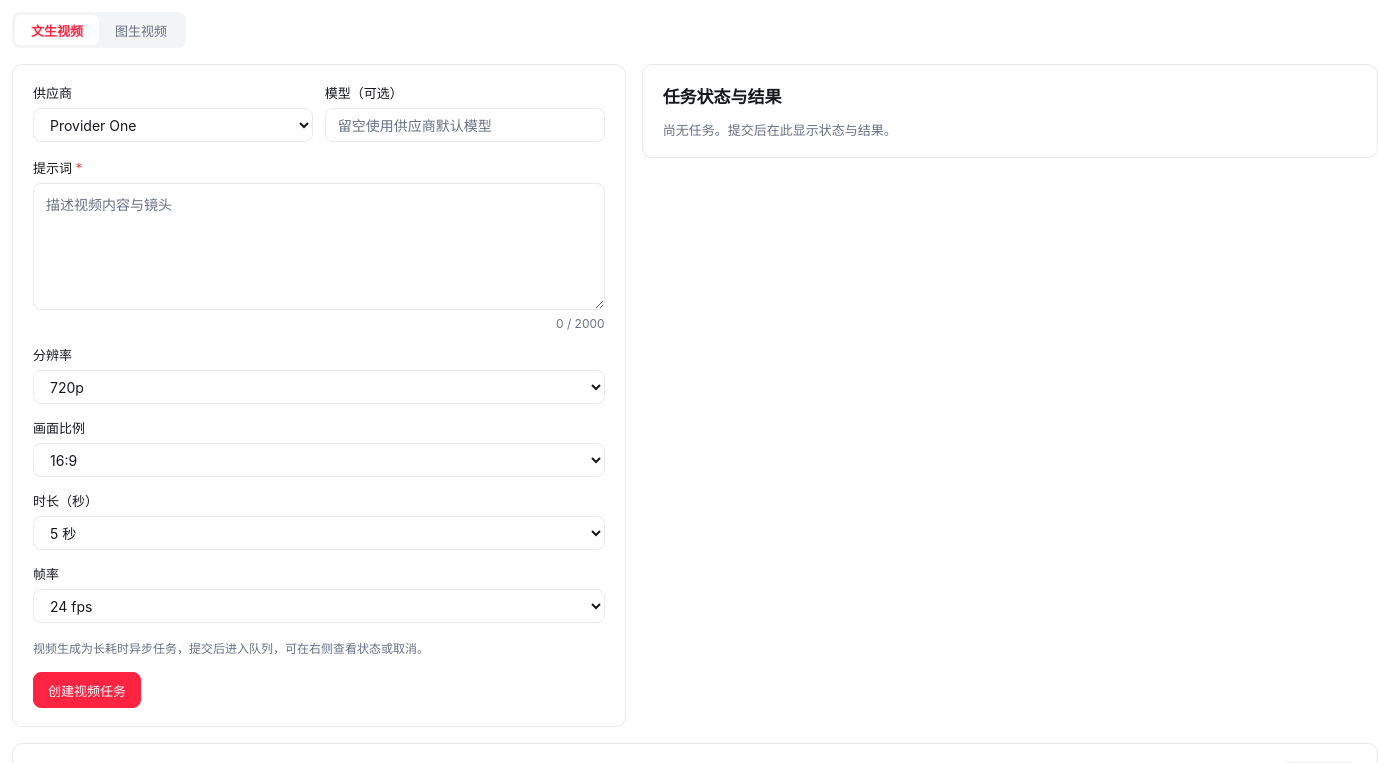
Test: 视频页 › 排队中的任务可取消，取消后状态更新
Step 1. Type "a drone shot" into the text box labelled "提示词 *" → (319, 246), box 33,183 -> 605,310
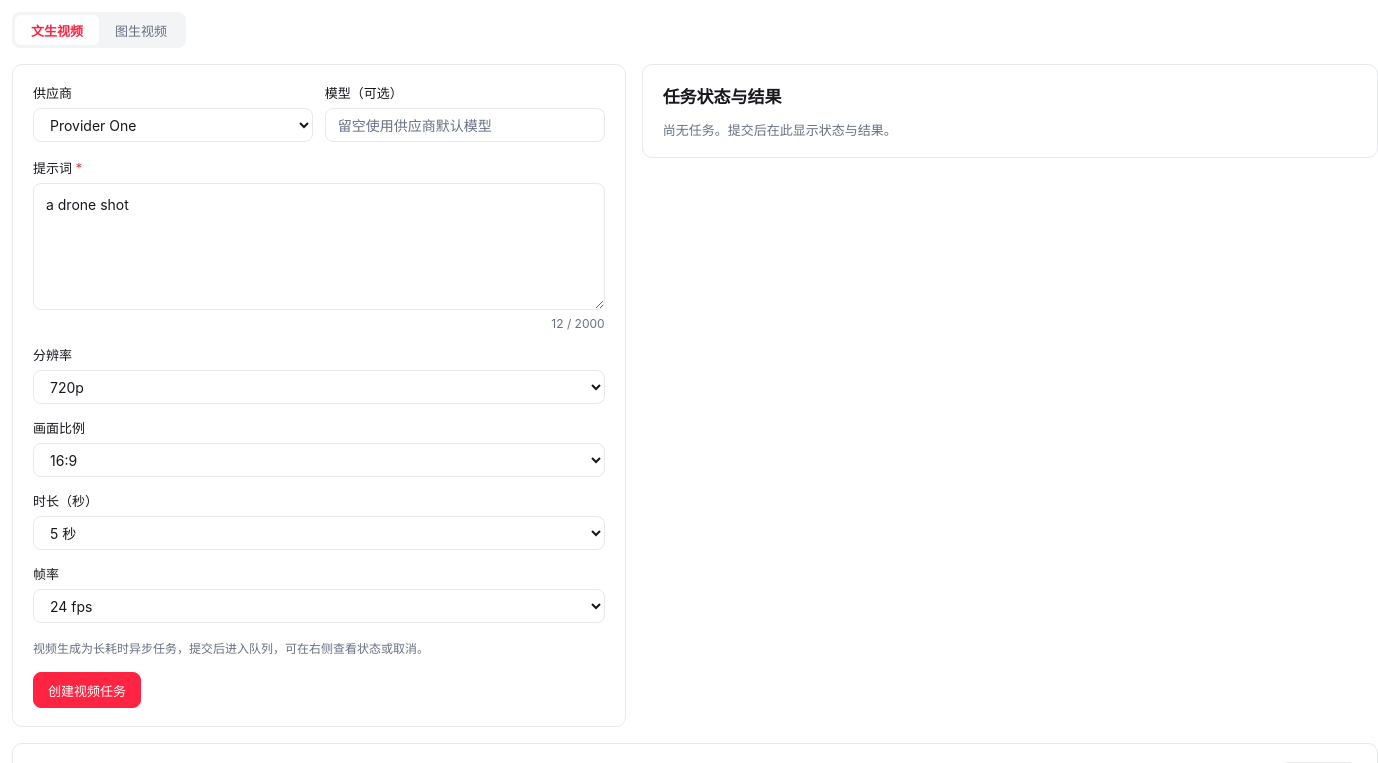
Step 2. Submit the form, box 33,83 -> 605,708
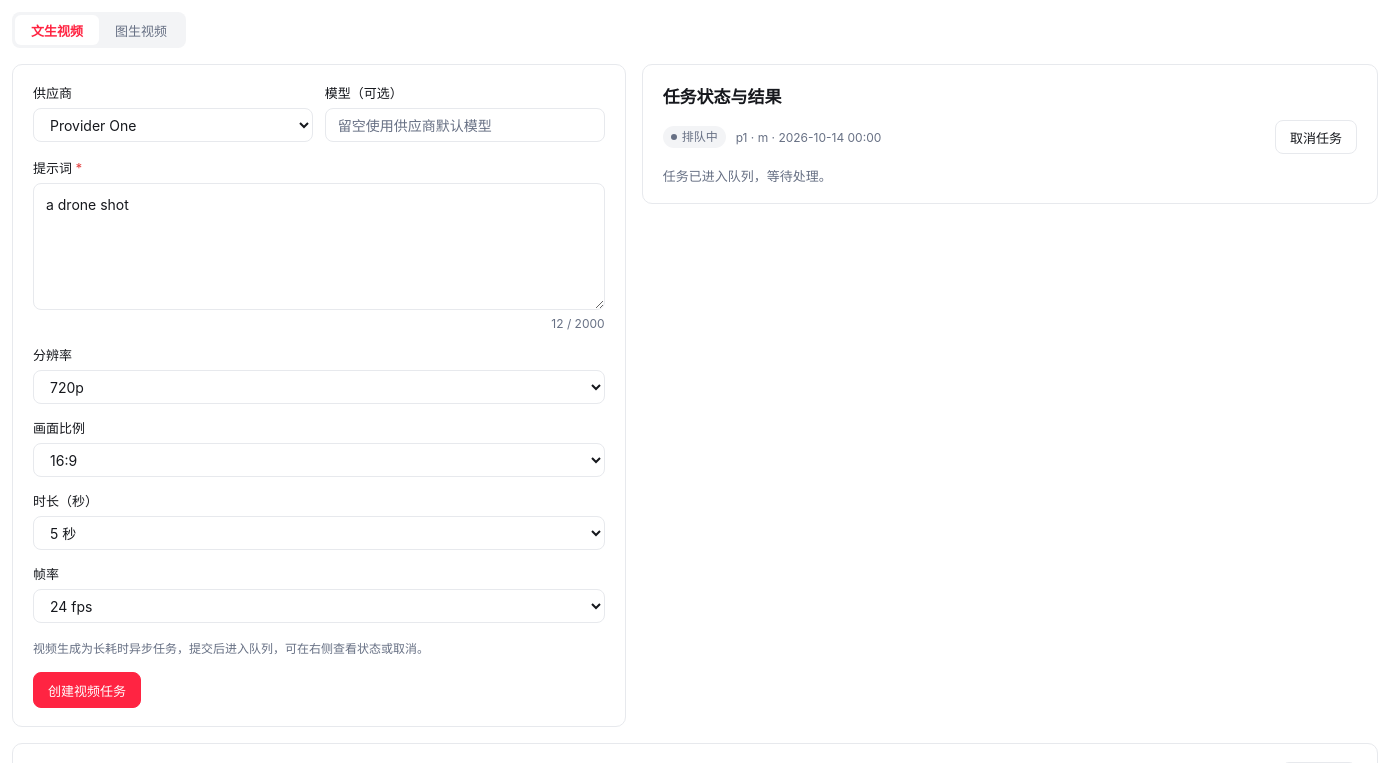
Result: the element with test id "job-status" reads "排队中" at 682,129 -> 718,144
Step 3. Click the button with test id "cancel-job" → (1316, 137), box 1275,120 -> 1357,154
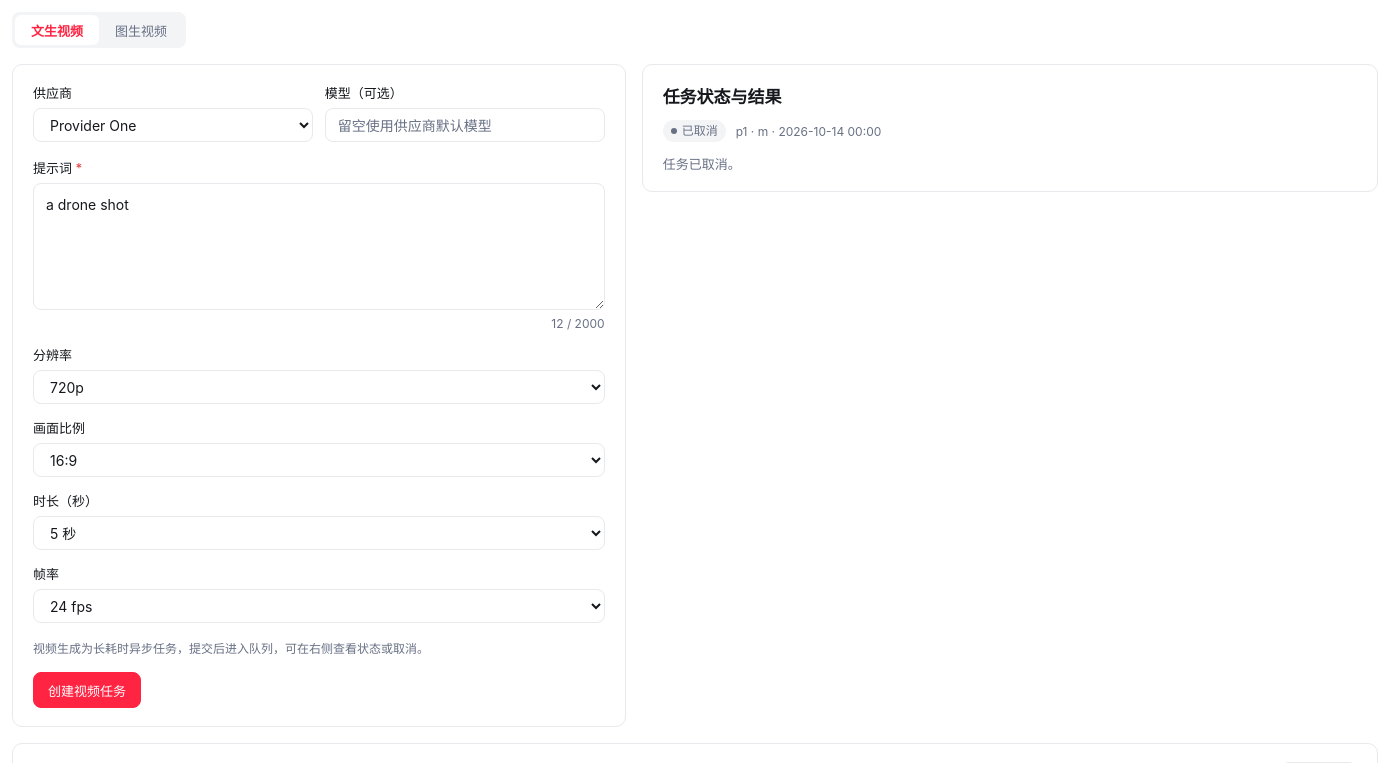
Result: the element with test id "job-status" reads "已取消" at 682,123 -> 718,138
